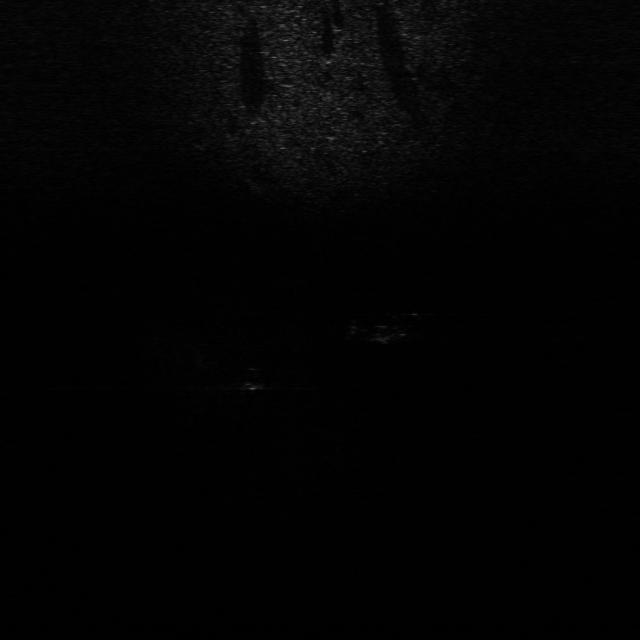ball: (233, 367, 268, 394)
human body: (341, 314, 423, 346)
